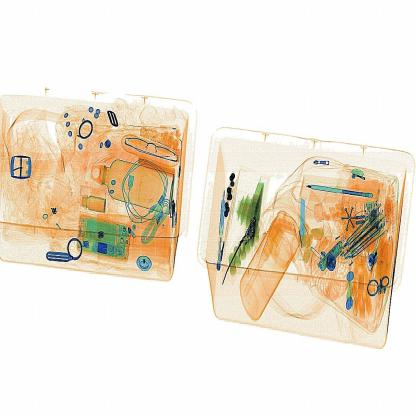pliers: (292, 191, 310, 256)
